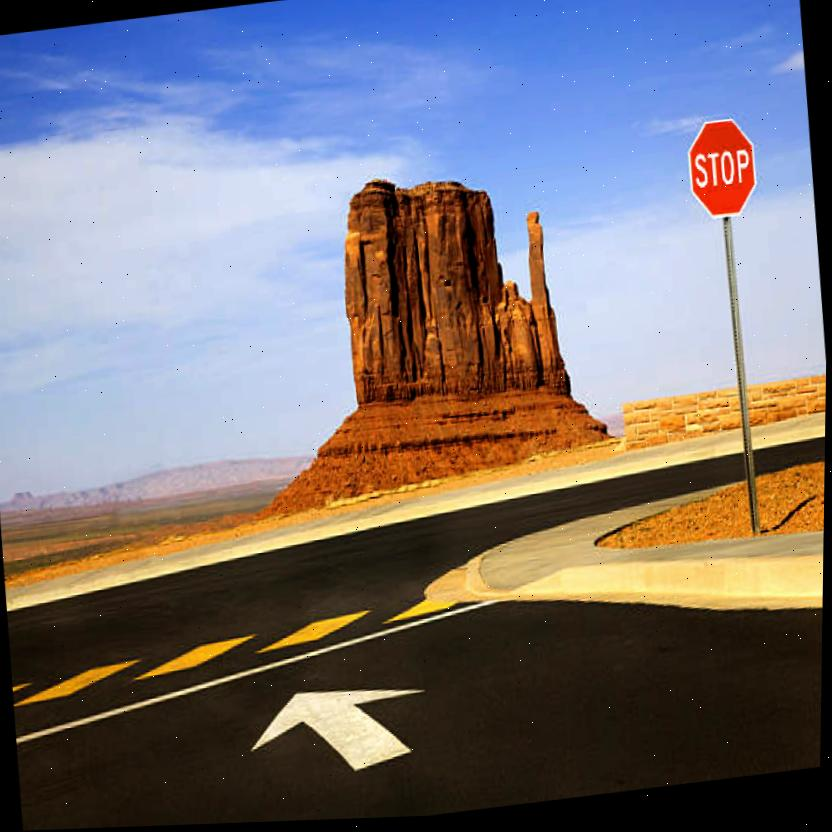Pole: (715, 218, 769, 545)
Sign: (683, 120, 761, 225)
